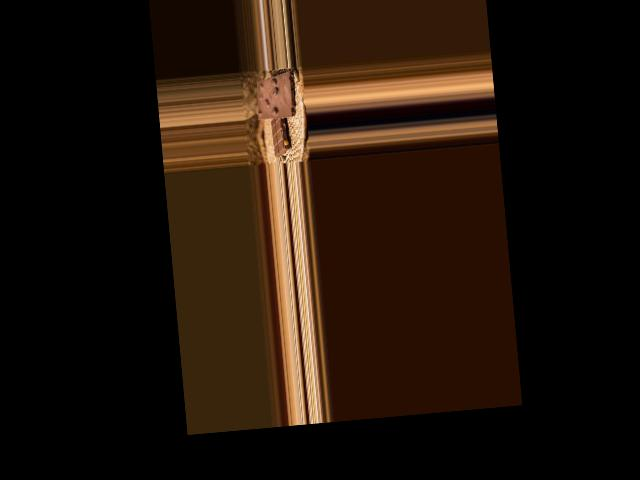chocolate: (253, 70, 297, 123)
